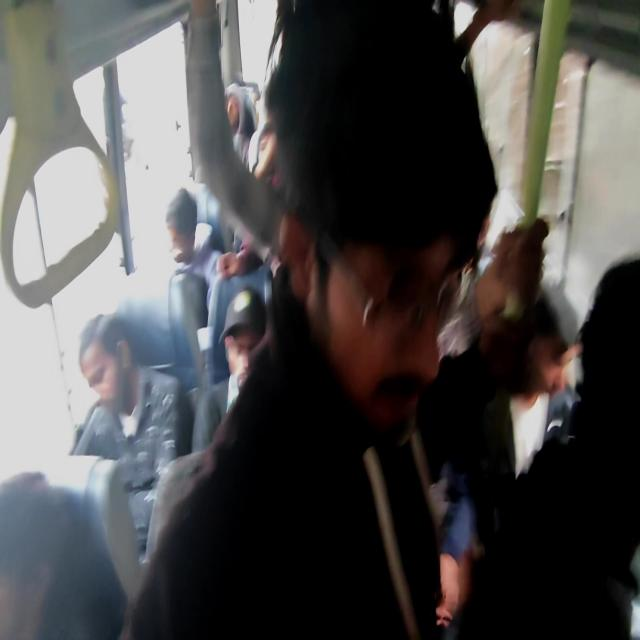person: (290, 43, 478, 386), (591, 295, 640, 520), (165, 194, 239, 314), (0, 485, 53, 640), (524, 286, 584, 402), (71, 334, 136, 436), (218, 98, 260, 171), (222, 303, 258, 368), (262, 123, 296, 190)
